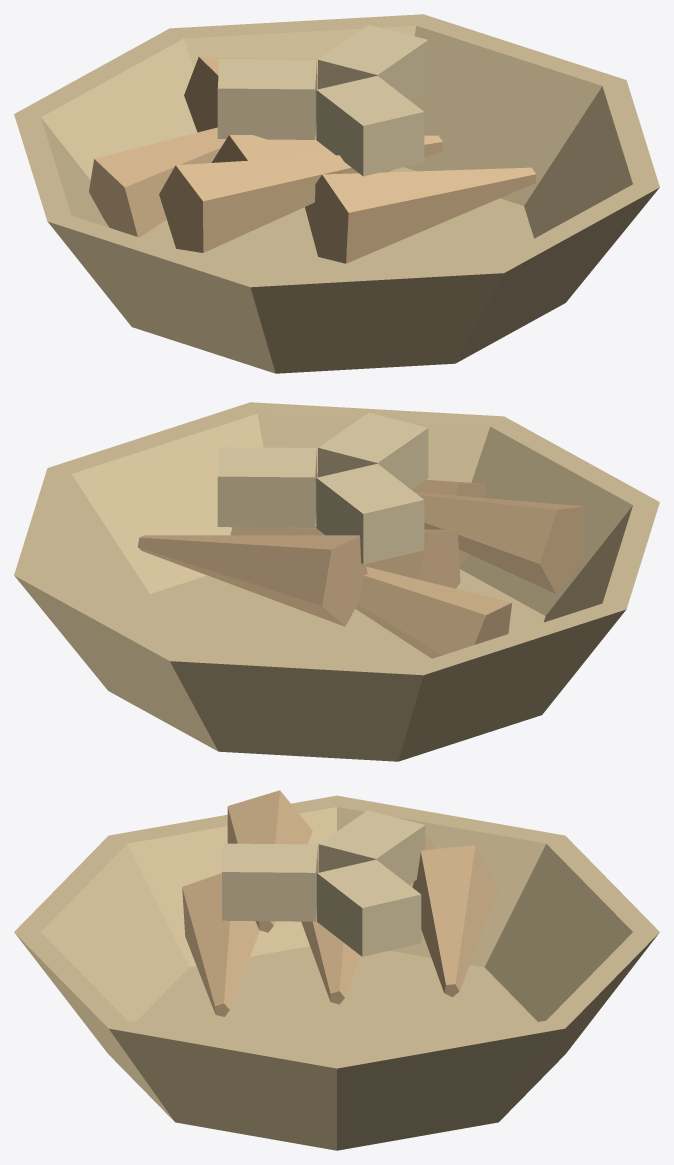
The model's file is prop-root-basket.fbx.
The picture shows the model from 3 angles, top to bottom: view 1: azimuth 30°, elevation 25°; view 2: azimuth 150°, elevation 25°; view 3: azimuth 270°, elevation 25°; orthographic projection. The views are drawn at different scales.
Visible parts, largest first — view 1: prop-root-basket; view 2: prop-root-basket; view 3: prop-root-basket.
Part boxes in pixels (x1,y1,x2,y2): prop-root-basket: [14, 14, 659, 373]; prop-root-basket: [14, 402, 659, 761]; prop-root-basket: [14, 790, 659, 1150].
Size of the model in its own units: 48 by 16 by 48.
